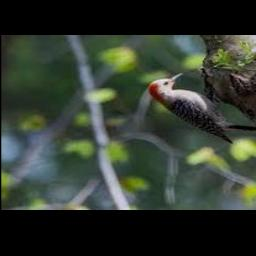Woodpecker: (150, 71, 256, 143)
